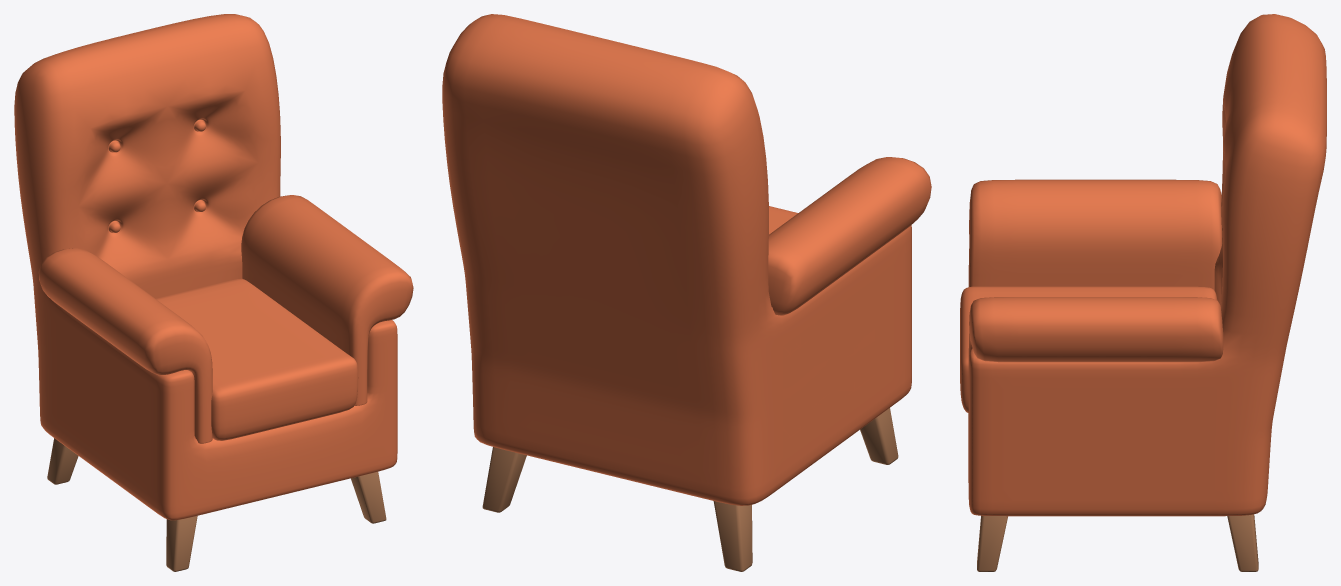
Rendered from sofa.fbx.
3 renders of one model, left to right at view 1: azimuth 30°, elevation 25°; view 2: azimuth 150°, elevation 25°; view 3: azimuth 270°, elevation 25°, orthographic. The views are drawn at different scales.
Parts seen in each view (by area): view 1: Plane, Plane.002, Plane.001, Plane.003; view 2: Plane, Plane.002, Plane.003; view 3: Plane, Plane.002, Plane.001, Plane.003.
Part boxes in pixels (x1,y1,x2,y2): Plane: (14, 14, 397, 520); Plane.002: (38, 195, 413, 443); Plane.001: (155, 278, 358, 440); Plane.003: (47, 438, 386, 571); Plane: (442, 14, 911, 505); Plane.002: (768, 157, 931, 315); Plane.003: (482, 408, 898, 571); Plane: (968, 14, 1326, 516); Plane.002: (968, 179, 1223, 418); Plane.001: (960, 286, 1217, 412); Plane.003: (977, 514, 1258, 571).
Bounding box in the file's own units: 230 × 335 × 246.
